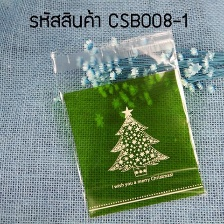snack: (41, 23, 212, 223)
